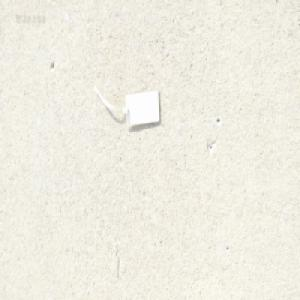LuggageTag: (90, 72, 162, 130)
